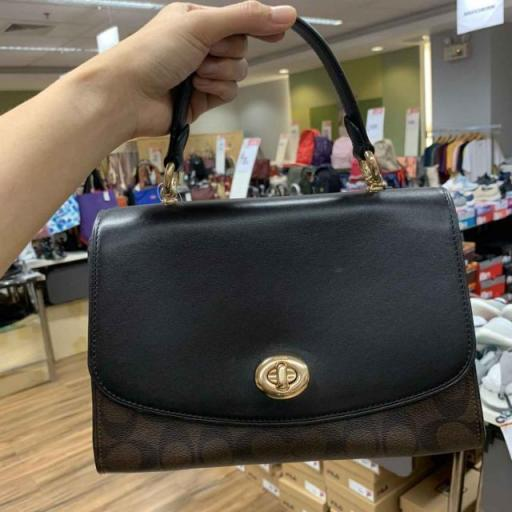bag: (66, 6, 500, 484)
